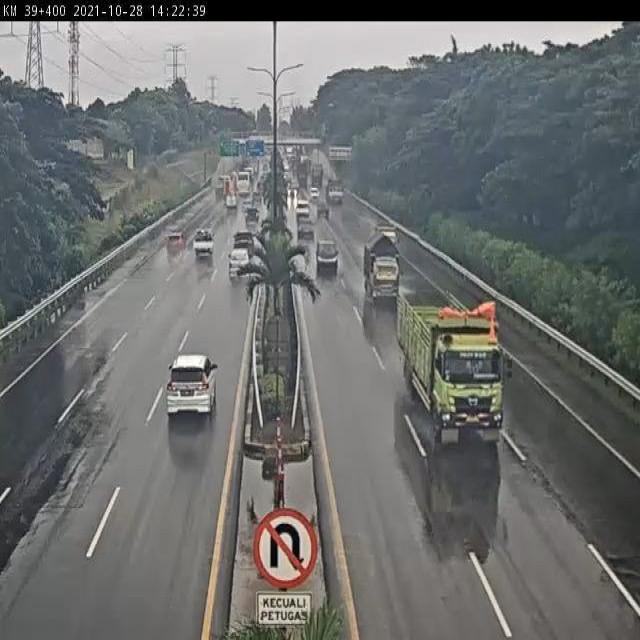big truck: (397, 299, 513, 453)
car: (166, 349, 217, 422), (315, 240, 340, 273), (192, 227, 215, 261), (227, 248, 248, 281), (233, 230, 257, 258), (165, 233, 187, 259), (295, 218, 313, 242), (317, 199, 330, 221)
small truck: (369, 252, 402, 301), (219, 175, 236, 193), (224, 189, 240, 208)
